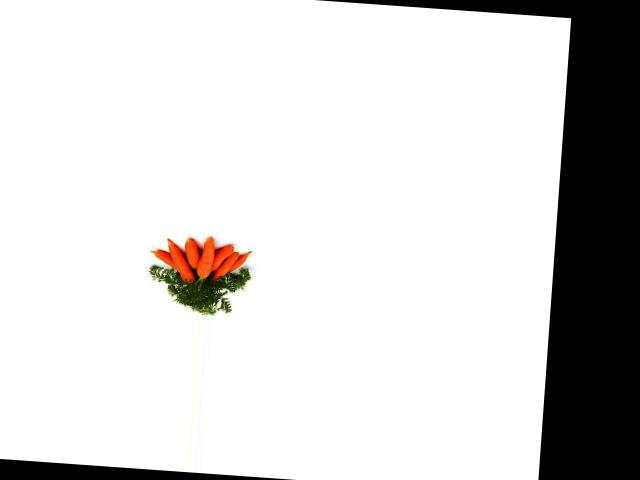carrot: (151, 245, 186, 272)
